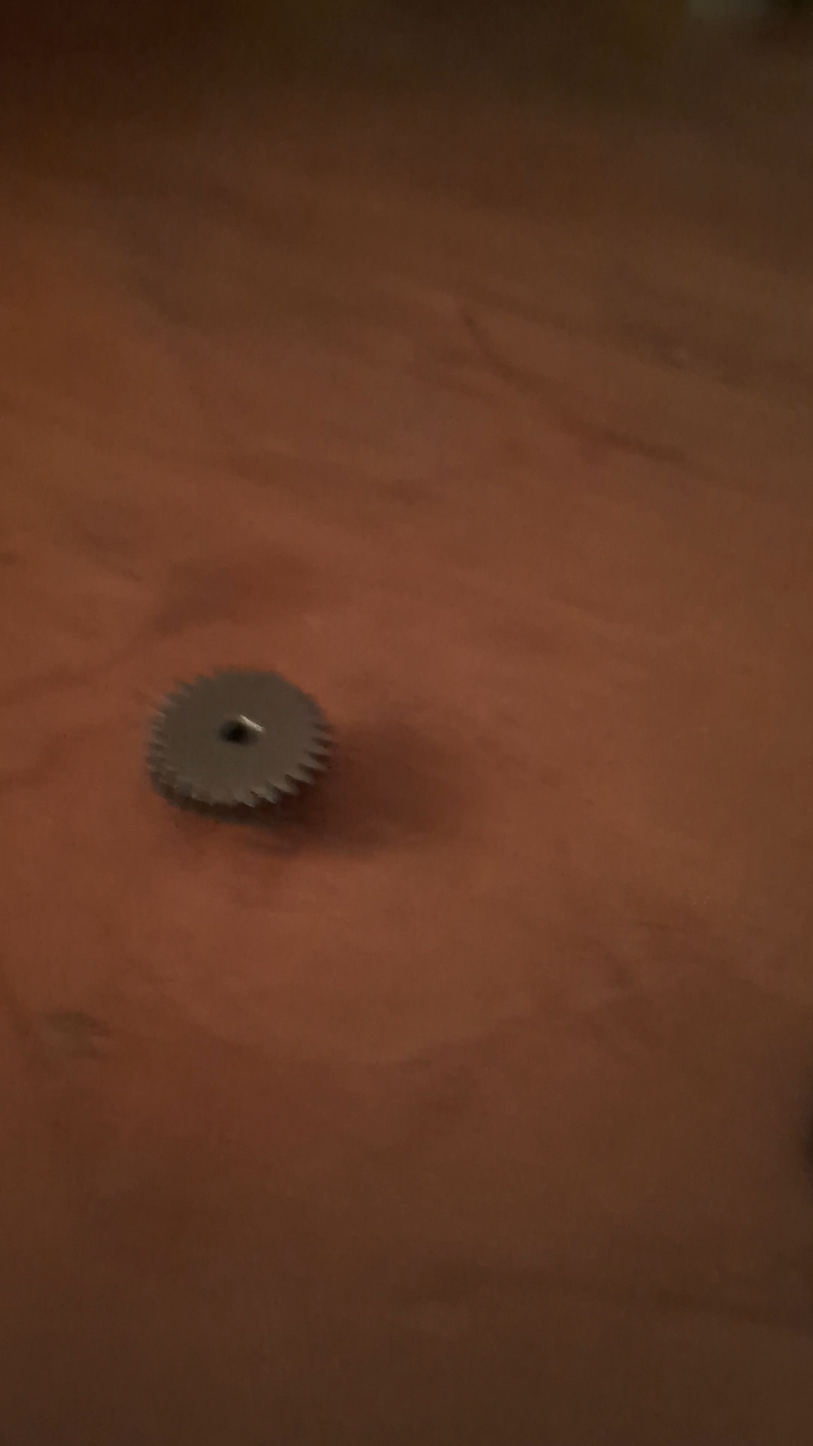spur gear: (148, 671, 329, 810)
